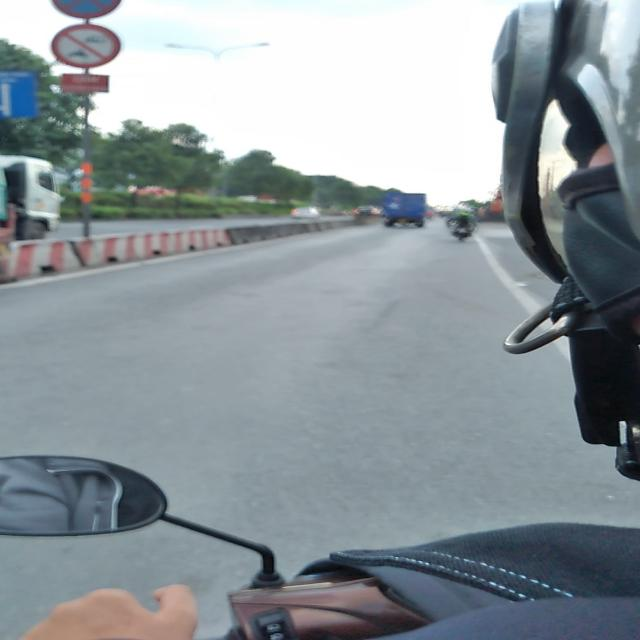Cam dung va do: (50, 0, 122, 19)
